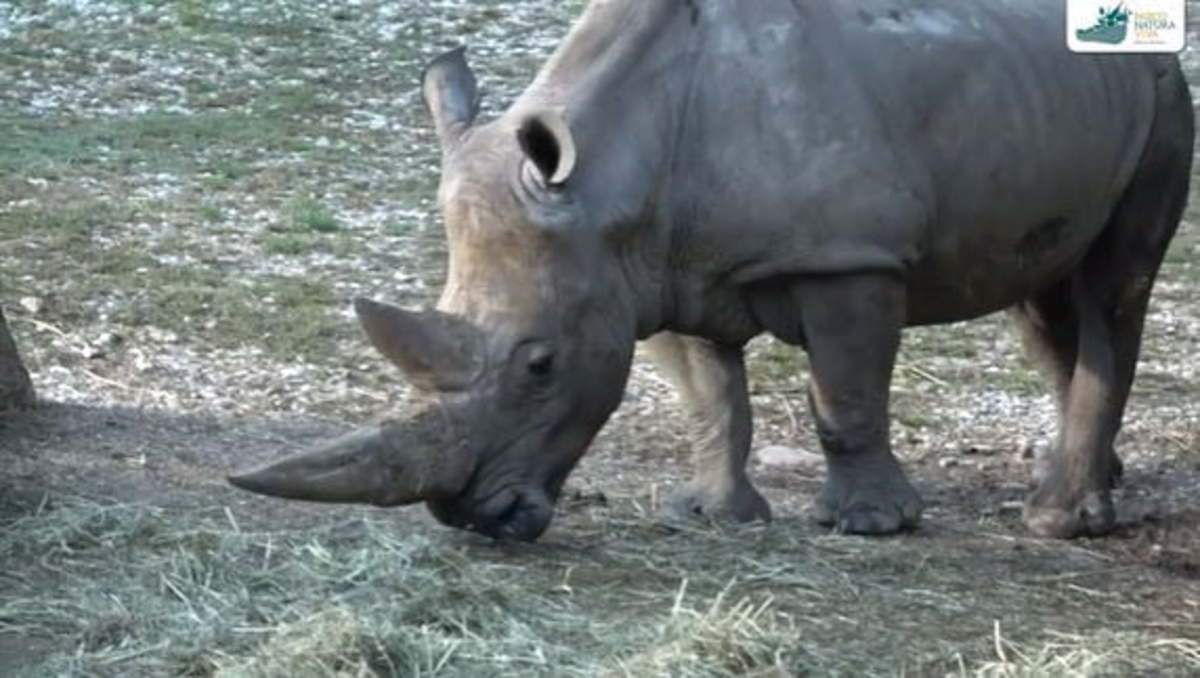Rhinoceros: (211, 25, 1193, 548)
